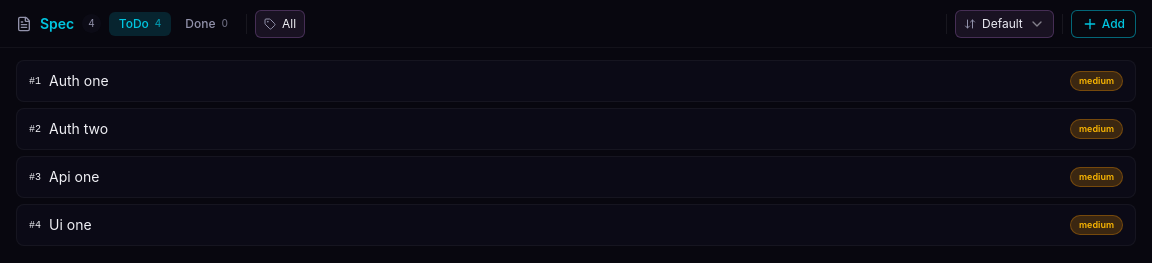
Test case: SpecsBoard label filter dropdown › renders an All entry plus one option per label from the active + done tickets
Step 1. Click the button with test id "spec-label-filter-dropdown" → {"x": 280, "y": 24}, box x1=255 y1=10 x2=305 y2=38
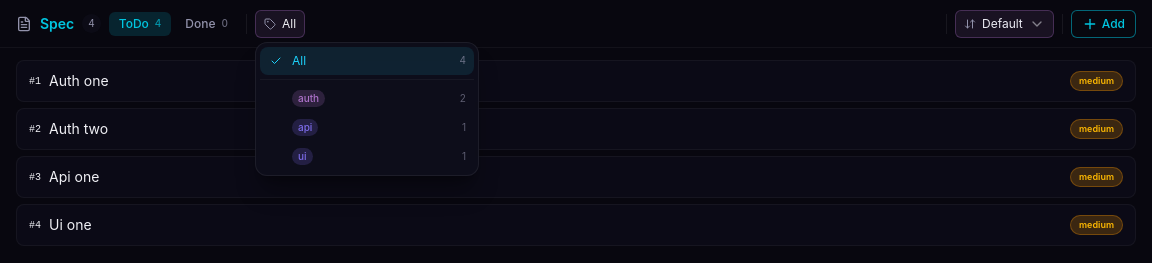
Check: the 2nd text "All" is shown, box x1=292 y1=52 x2=306 y2=68
Check: the text "auth" is shown, box x1=292 y1=90 x2=325 y2=107
Check: the text "api" is shown, box x1=292 y1=119 x2=318 y2=136
